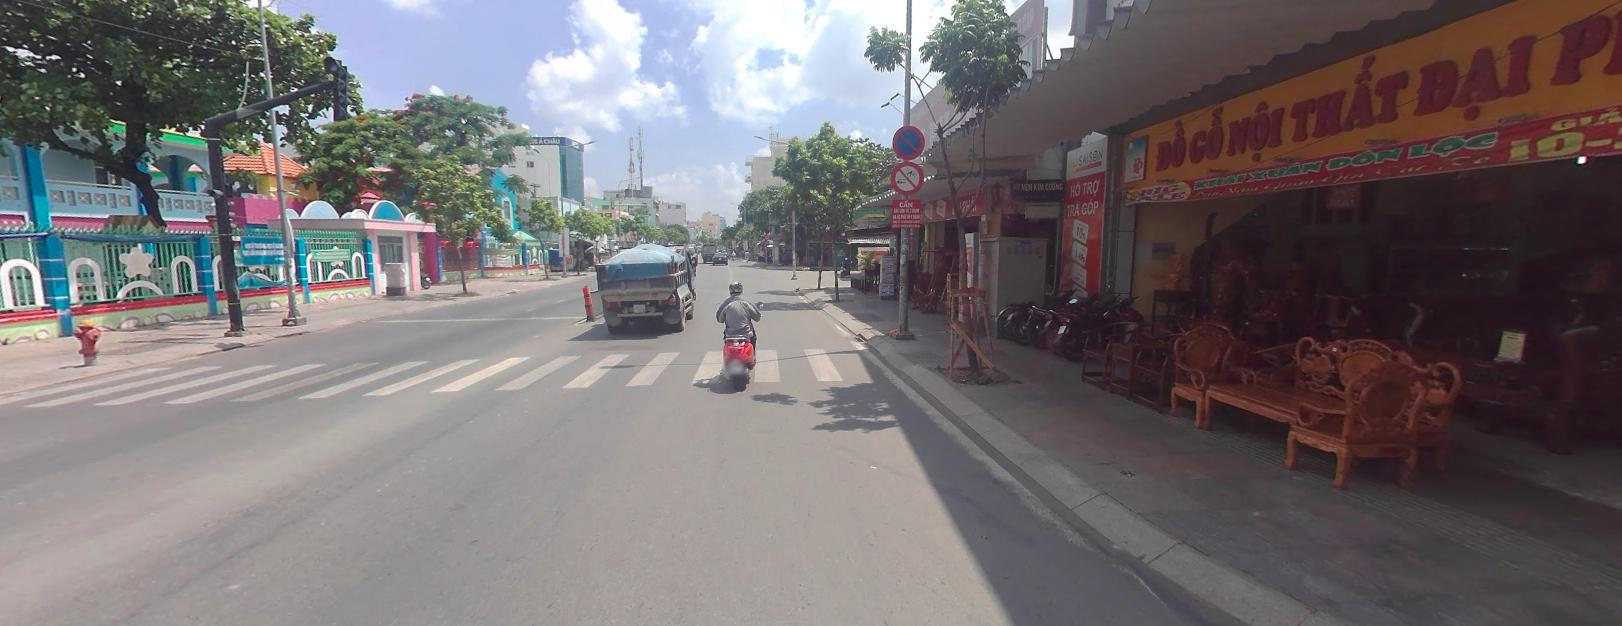Cam con lai: (891, 160, 923, 193)
Cam dung va do: (892, 124, 924, 158)
